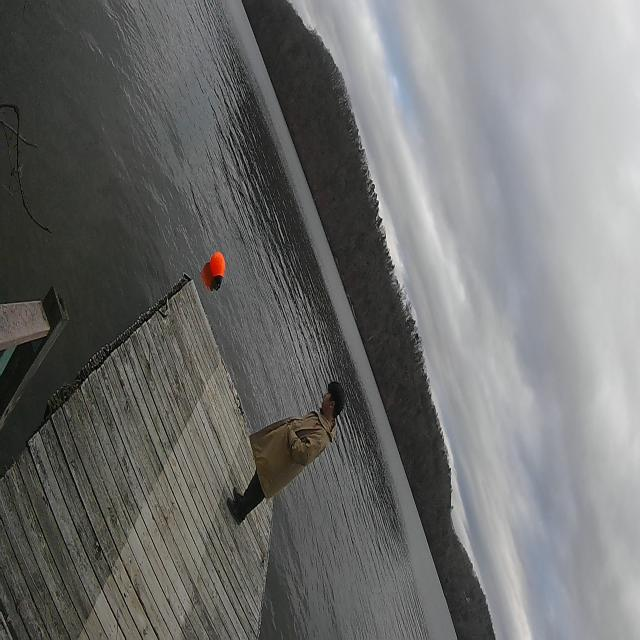Buoy: (208, 248, 227, 296)
